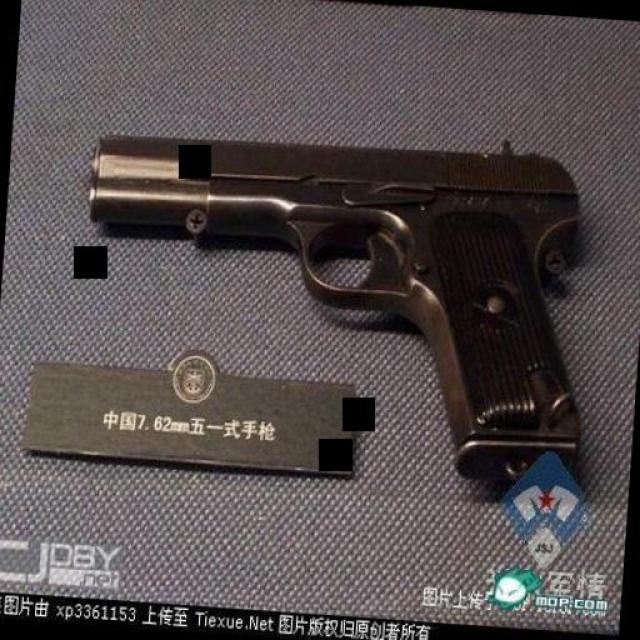gun: (69, 110, 596, 501)
